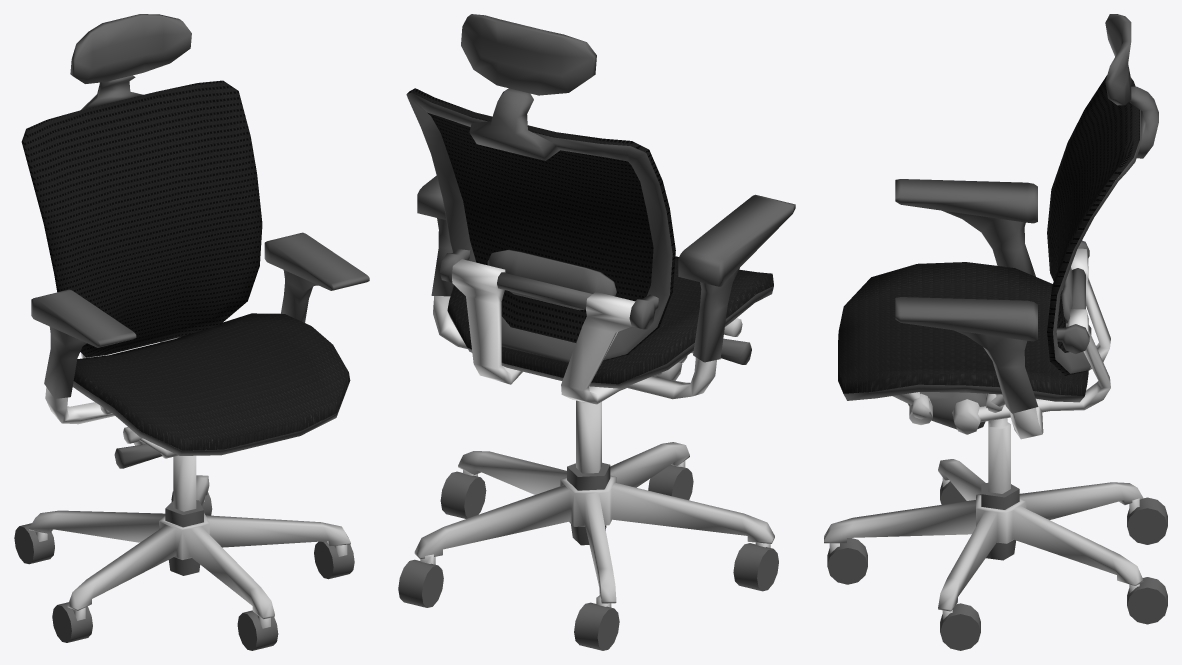
Rendered from 事務ﾁｪｱF94.gltf.
3 views of the same model, side by side, from view 1: azimuth 30°, elevation 25°; view 2: azimuth 150°, elevation 25°; view 3: azimuth 270°, elevation 25° (orthographic). The views are drawn at different scales.
Parts seen in each view (by area): view 1: 2_primitive, 7_primitive, 1_primitive, 3_primitive, 4_primitive, 8_primitive, 11_primitive, 12_primitive, 9_primitive, 6_primitive, 5_primitive; view 2: 2_primitive, 3_primitive, 1_primitive, 5_primitive, 7_primitive, 6_primitive, 4_primitive, 11_primitive, 12_primitive, 8_primitive, 9_primitive; view 3: 7_primitive, 1_primitive, 2_primitive, 4_primitive, 12_primitive, 8_primitive, 3_primitive, 5_primitive, 6_primitive, 9_primitive, 11_primitive.
Boxes of the visible parts, box(x1,y1,x2,y2) form: 2_primitive: box(21, 80, 262, 357); 7_primitive: box(73, 313, 350, 450); 1_primitive: box(29, 406, 350, 628); 3_primitive: box(42, 14, 191, 121); 4_primitive: box(31, 232, 369, 347); 8_primitive: box(44, 270, 318, 398); 11_primitive: box(19, 492, 354, 650); 12_primitive: box(14, 491, 333, 650); 9_primitive: box(114, 444, 203, 575); 6_primitive: box(72, 381, 348, 455); 5_primitive: box(45, 337, 178, 424); 2_primitive: box(407, 88, 675, 363); 3_primitive: box(406, 14, 672, 362); 1_primitive: box(414, 318, 774, 607); 5_primitive: box(433, 259, 716, 404); 7_primitive: box(447, 256, 773, 384); 6_primitive: box(439, 249, 773, 388); 4_primitive: box(417, 175, 795, 286); 11_primitive: box(398, 465, 772, 650); 12_primitive: box(422, 468, 778, 650); 8_primitive: box(431, 218, 739, 362); 9_primitive: box(567, 338, 751, 545); 7_primitive: box(838, 262, 1088, 396); 1_primitive: box(824, 392, 1143, 619); 2_primitive: box(1047, 75, 1139, 375); 4_primitive: box(895, 179, 1037, 341); 12_primitive: box(827, 484, 1167, 650); 8_primitive: box(942, 210, 1038, 413); 3_primitive: box(1053, 14, 1158, 373); 5_primitive: box(978, 248, 1110, 439); 6_primitive: box(843, 240, 1089, 402); 9_primitive: box(908, 392, 1019, 560); 11_primitive: box(827, 481, 1167, 631).
Size of the model in its own units: 0.63 by 1.13 by 0.64.
12 materials, 2 textured.
